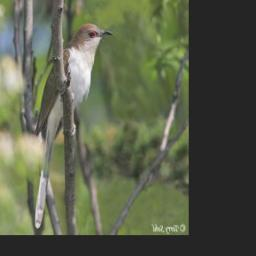Cuckoo: (34, 21, 115, 230)
